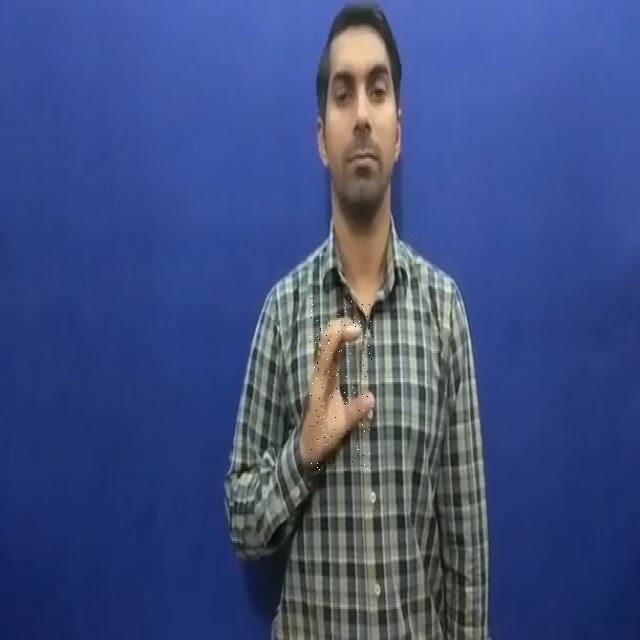pepper: (310, 298, 374, 472)
